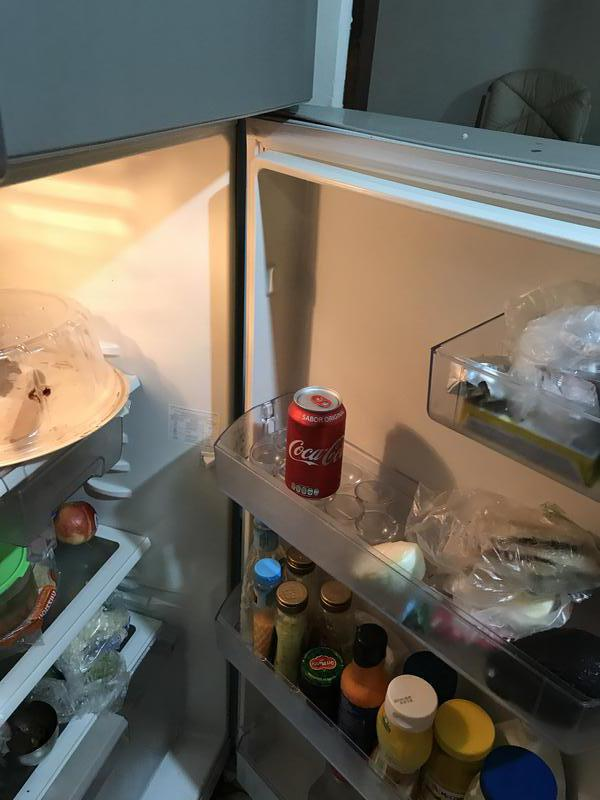coca_cola: (286, 389, 345, 500)
